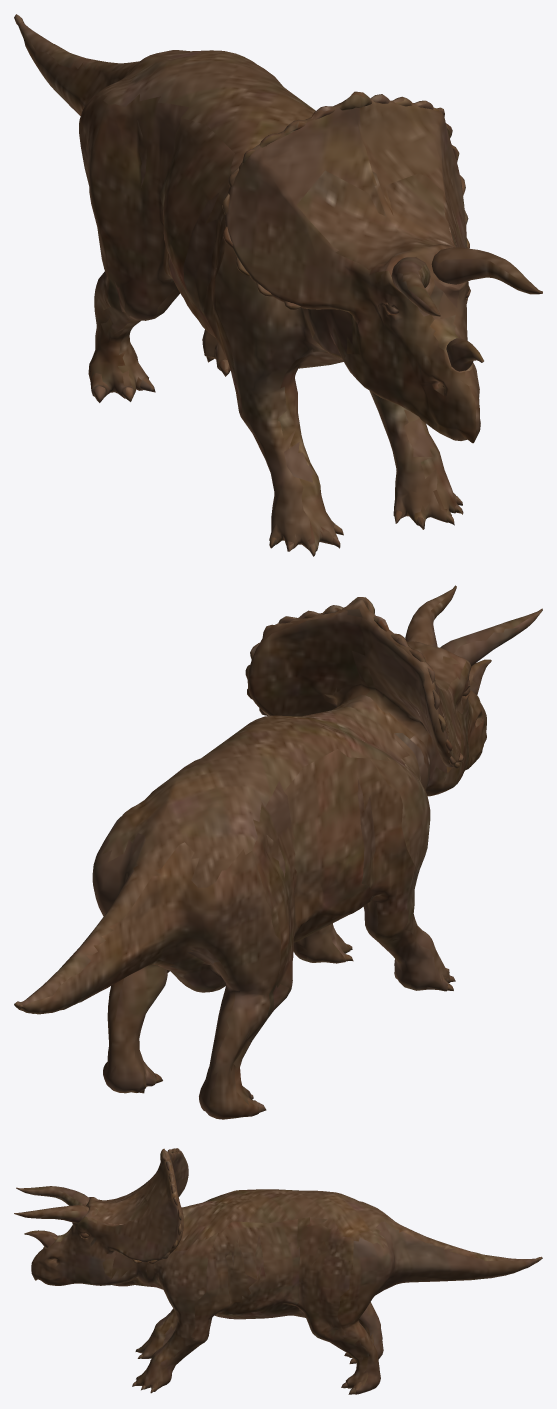
The model's file is triceratops.fbx.
3 views of the same model, one above another, from view 1: azimuth 30°, elevation 25°; view 2: azimuth 150°, elevation 25°; view 3: azimuth 270°, elevation 25° (orthographic). The views are drawn at different scales.
Visible parts, largest first — view 1: triceratops.Shape; view 2: triceratops.Shape; view 3: triceratops.Shape.
Part boxes in pixels (<box>): triceratops.Shape: <box>14,14,542,556</box>; triceratops.Shape: <box>14,585,542,1119</box>; triceratops.Shape: <box>14,1148,542,1394</box>.
Bounding box in the file's own units: 53.71 × 93.42 × 202.
Materials: 1 (1 with a texture image).
